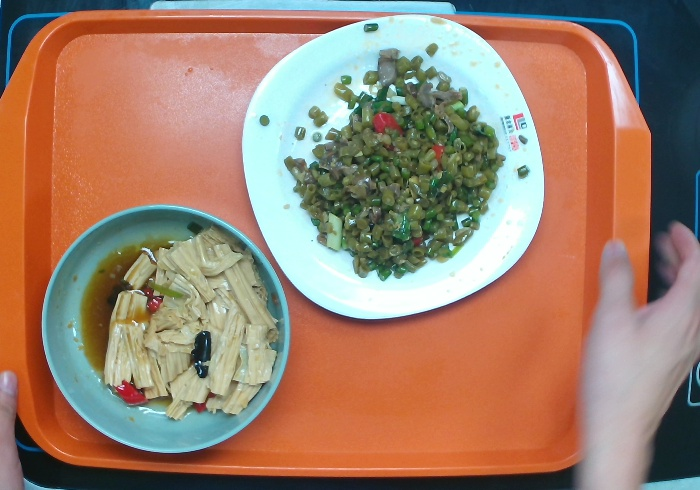ZNLD-Qing_Hua_Yuan_Wan: (32, 199, 297, 467)
ZNLD-Yuan_Jiao_Pan: (232, 11, 550, 331)
